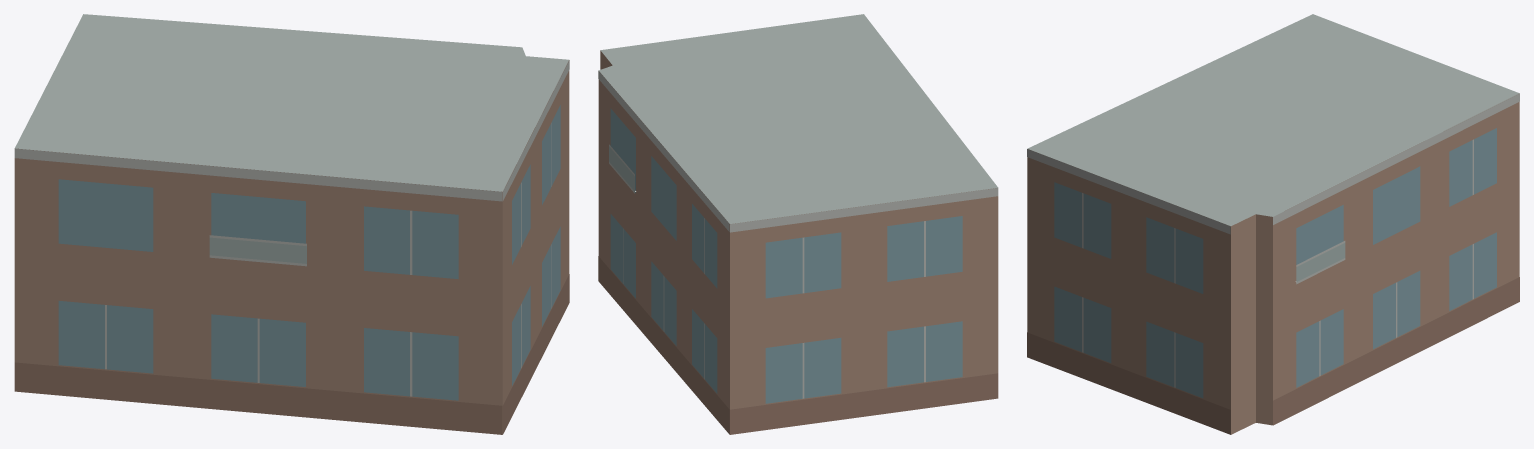
File: survey-upis-32929402.glb
3 renders of one model, left to right at view 1: azimuth 30°, elevation 25°; view 2: azimuth 150°, elevation 25°; view 3: azimuth 270°, elevation 25°, orthographic. The views are drawn at different scales.
Parts seen in each view (by area): view 1: survey-upis-32929402.tmp; view 2: survey-upis-32929402.tmp; view 3: survey-upis-32929402.tmp.
Boxes of the visible parts, bbox=[...] form: survey-upis-32929402.tmp: bbox=[14, 14, 569, 434]; survey-upis-32929402.tmp: bbox=[598, 14, 998, 434]; survey-upis-32929402.tmp: bbox=[1027, 14, 1519, 434].
Bounding box in the file's own units: 13.32 × 6.1 × 13.06.
